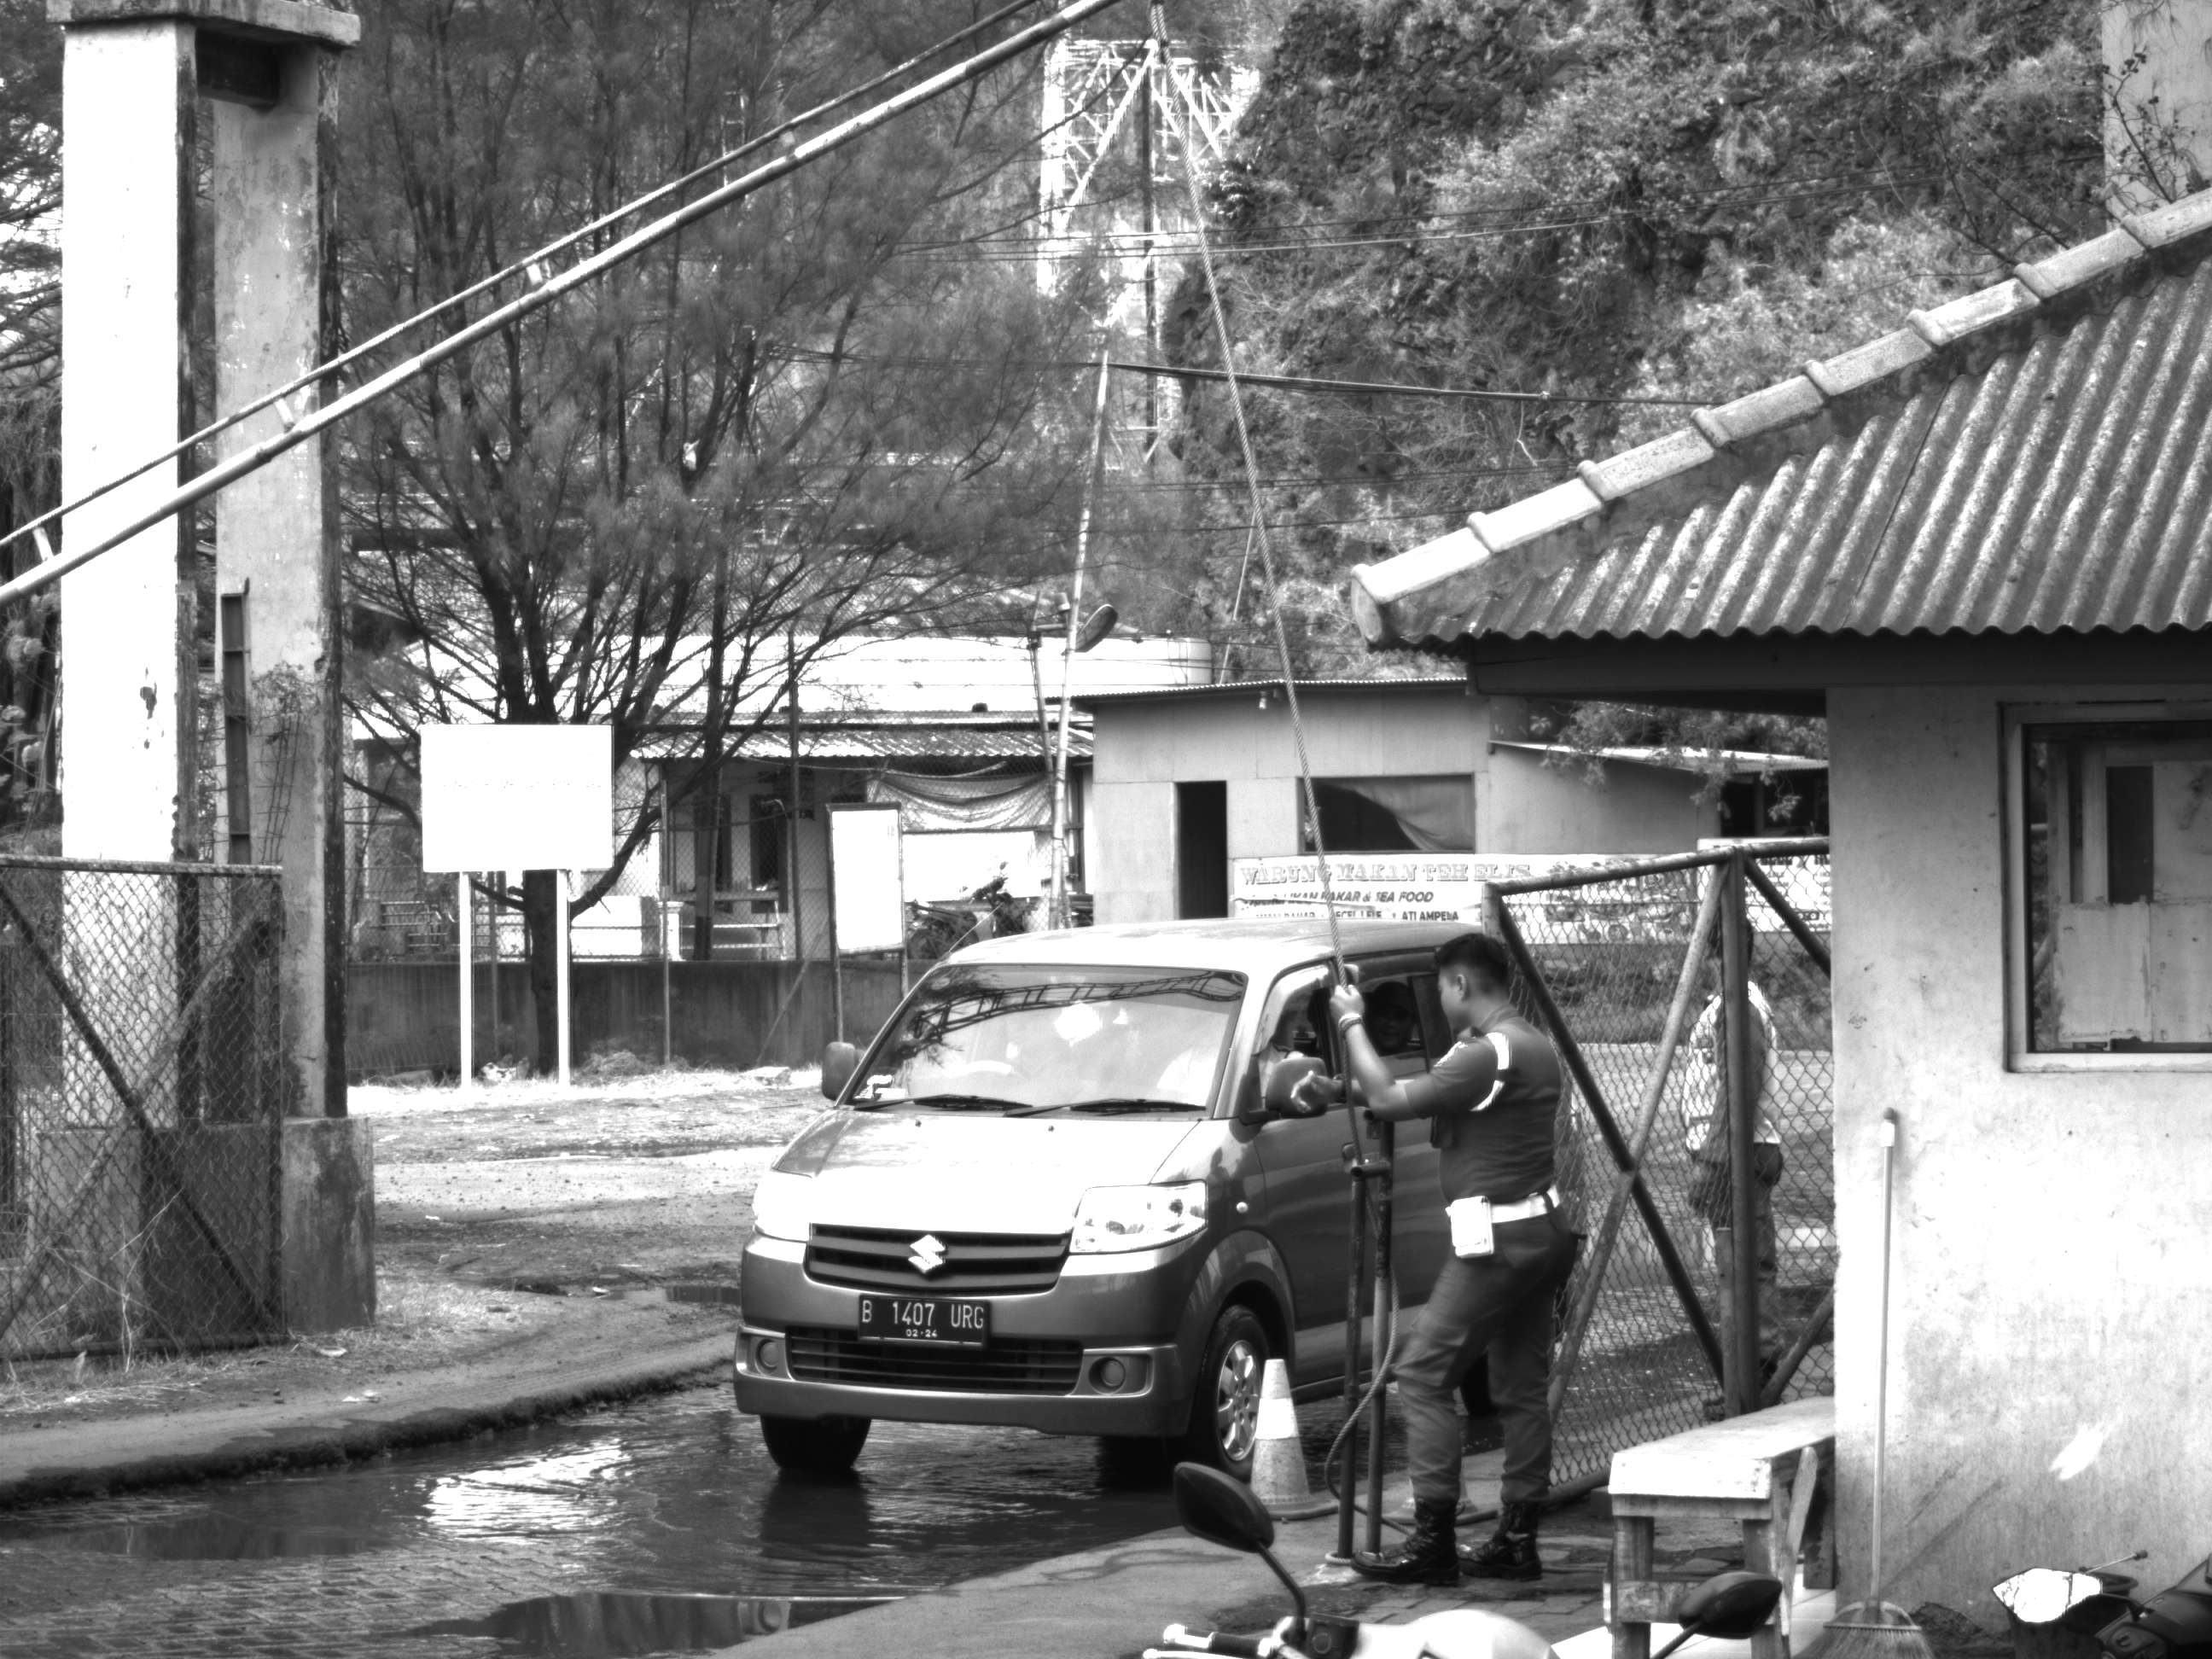day_small_front: (725, 926, 1330, 1495)
plate: (850, 1295, 992, 1346)
